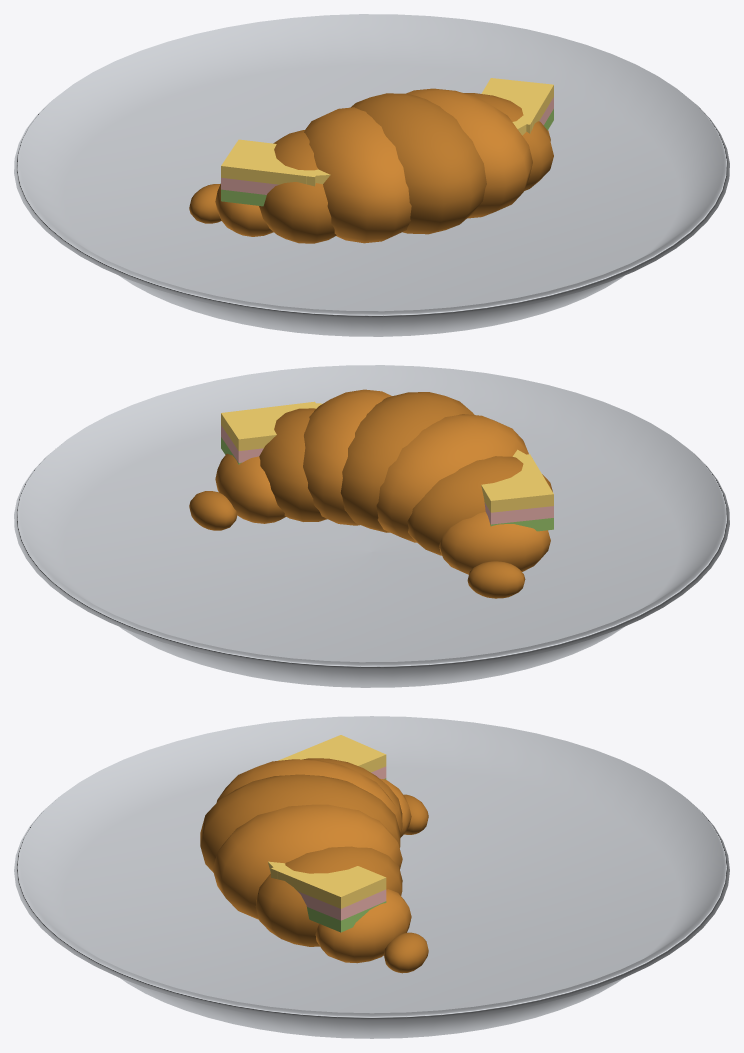
File: alba-croissant-salato-farcito.glb
The picture shows the model from 3 angles, top to bottom: view 1: azimuth 30°, elevation 25°; view 2: azimuth 150°, elevation 25°; view 3: azimuth 270°, elevation 25°; orthographic projection.
Size of the model in its own units: 0.22 by 0.0452 by 0.22.
